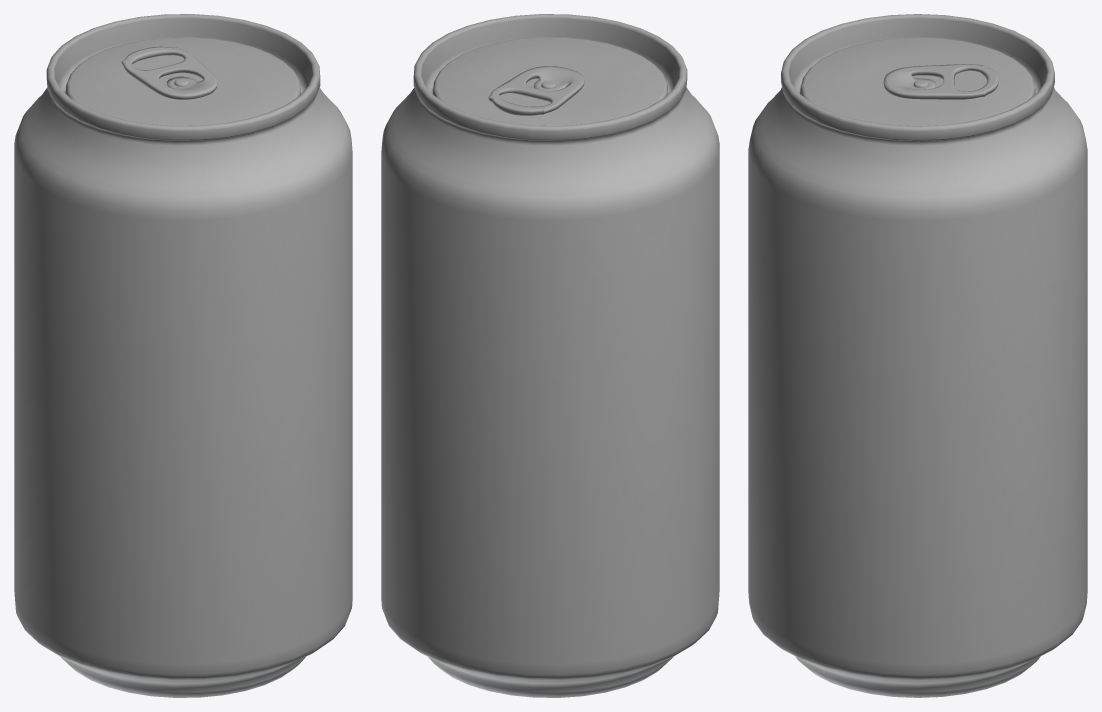
The model's file is SodaCan.fbx.
3 views of the same model, side by side, from view 1: azimuth 30°, elevation 25°; view 2: azimuth 150°, elevation 25°; view 3: azimuth 270°, elevation 25° (orthographic).
Visible parts, largest first — view 1: CanSoda; view 2: CanSoda; view 3: CanSoda.
Boxes of the visible parts, x1,y1,x2,y2 form: CanSoda: (14,14,352,697); CanSoda: (381,14,719,697); CanSoda: (748,14,1087,697).
Bounding box in the file's own units: 6.53 × 12.29 × 6.53.
1 material, 1 textured.
